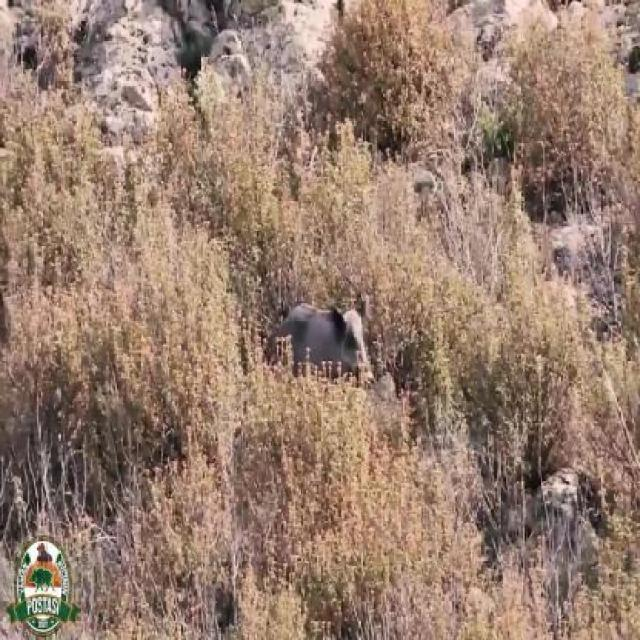pig: (274, 256, 369, 398)
